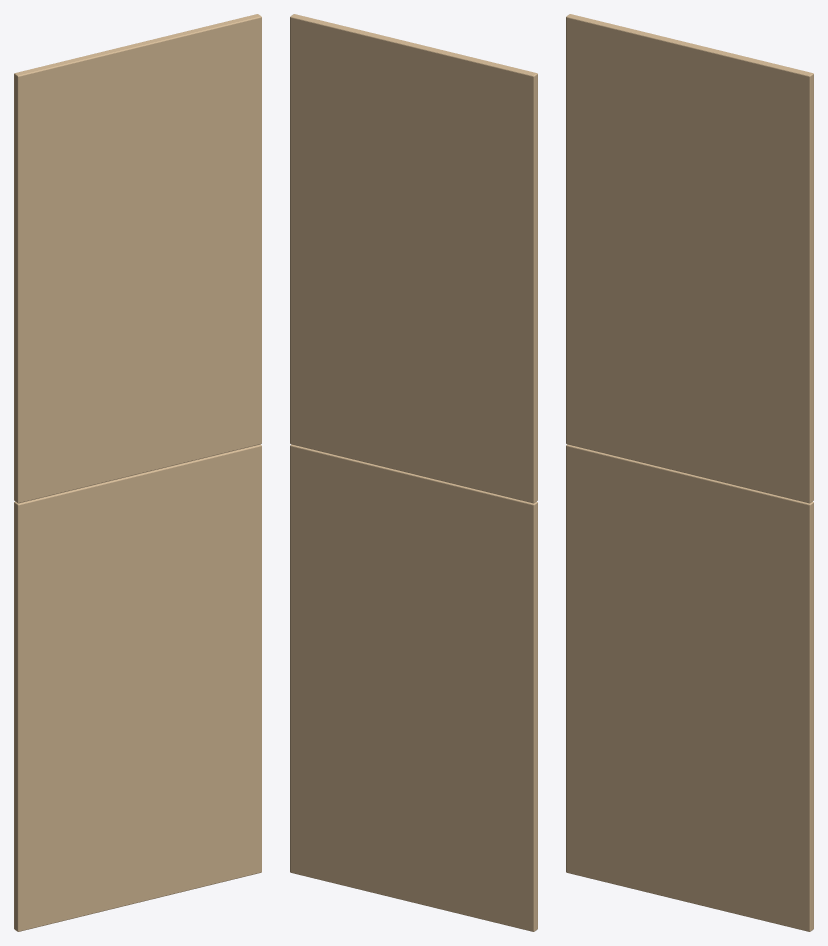
Rendered from DOOR_SINGLE_VERTICAL_2_600x2000.glb.
The picture shows the model from 3 angles, left to right: view 1: azimuth 30°, elevation 25°; view 2: azimuth 150°, elevation 25°; view 3: azimuth 330°, elevation 25°; orthographic projection.
Visible parts, largest first — view 1: front_panel_01, front_panel_02; view 2: front_panel_01, front_panel_02; view 3: front_panel_01, front_panel_02.
Part boxes in pixels (x1,y1,x2,y2): front_panel_01: (14, 14, 261, 503); front_panel_02: (14, 444, 261, 931); front_panel_01: (290, 14, 537, 503); front_panel_02: (290, 444, 537, 931); front_panel_01: (566, 14, 813, 503); front_panel_02: (566, 444, 813, 931).
Bounding box in the file's own units: 0.596 × 2 × 0.018.
